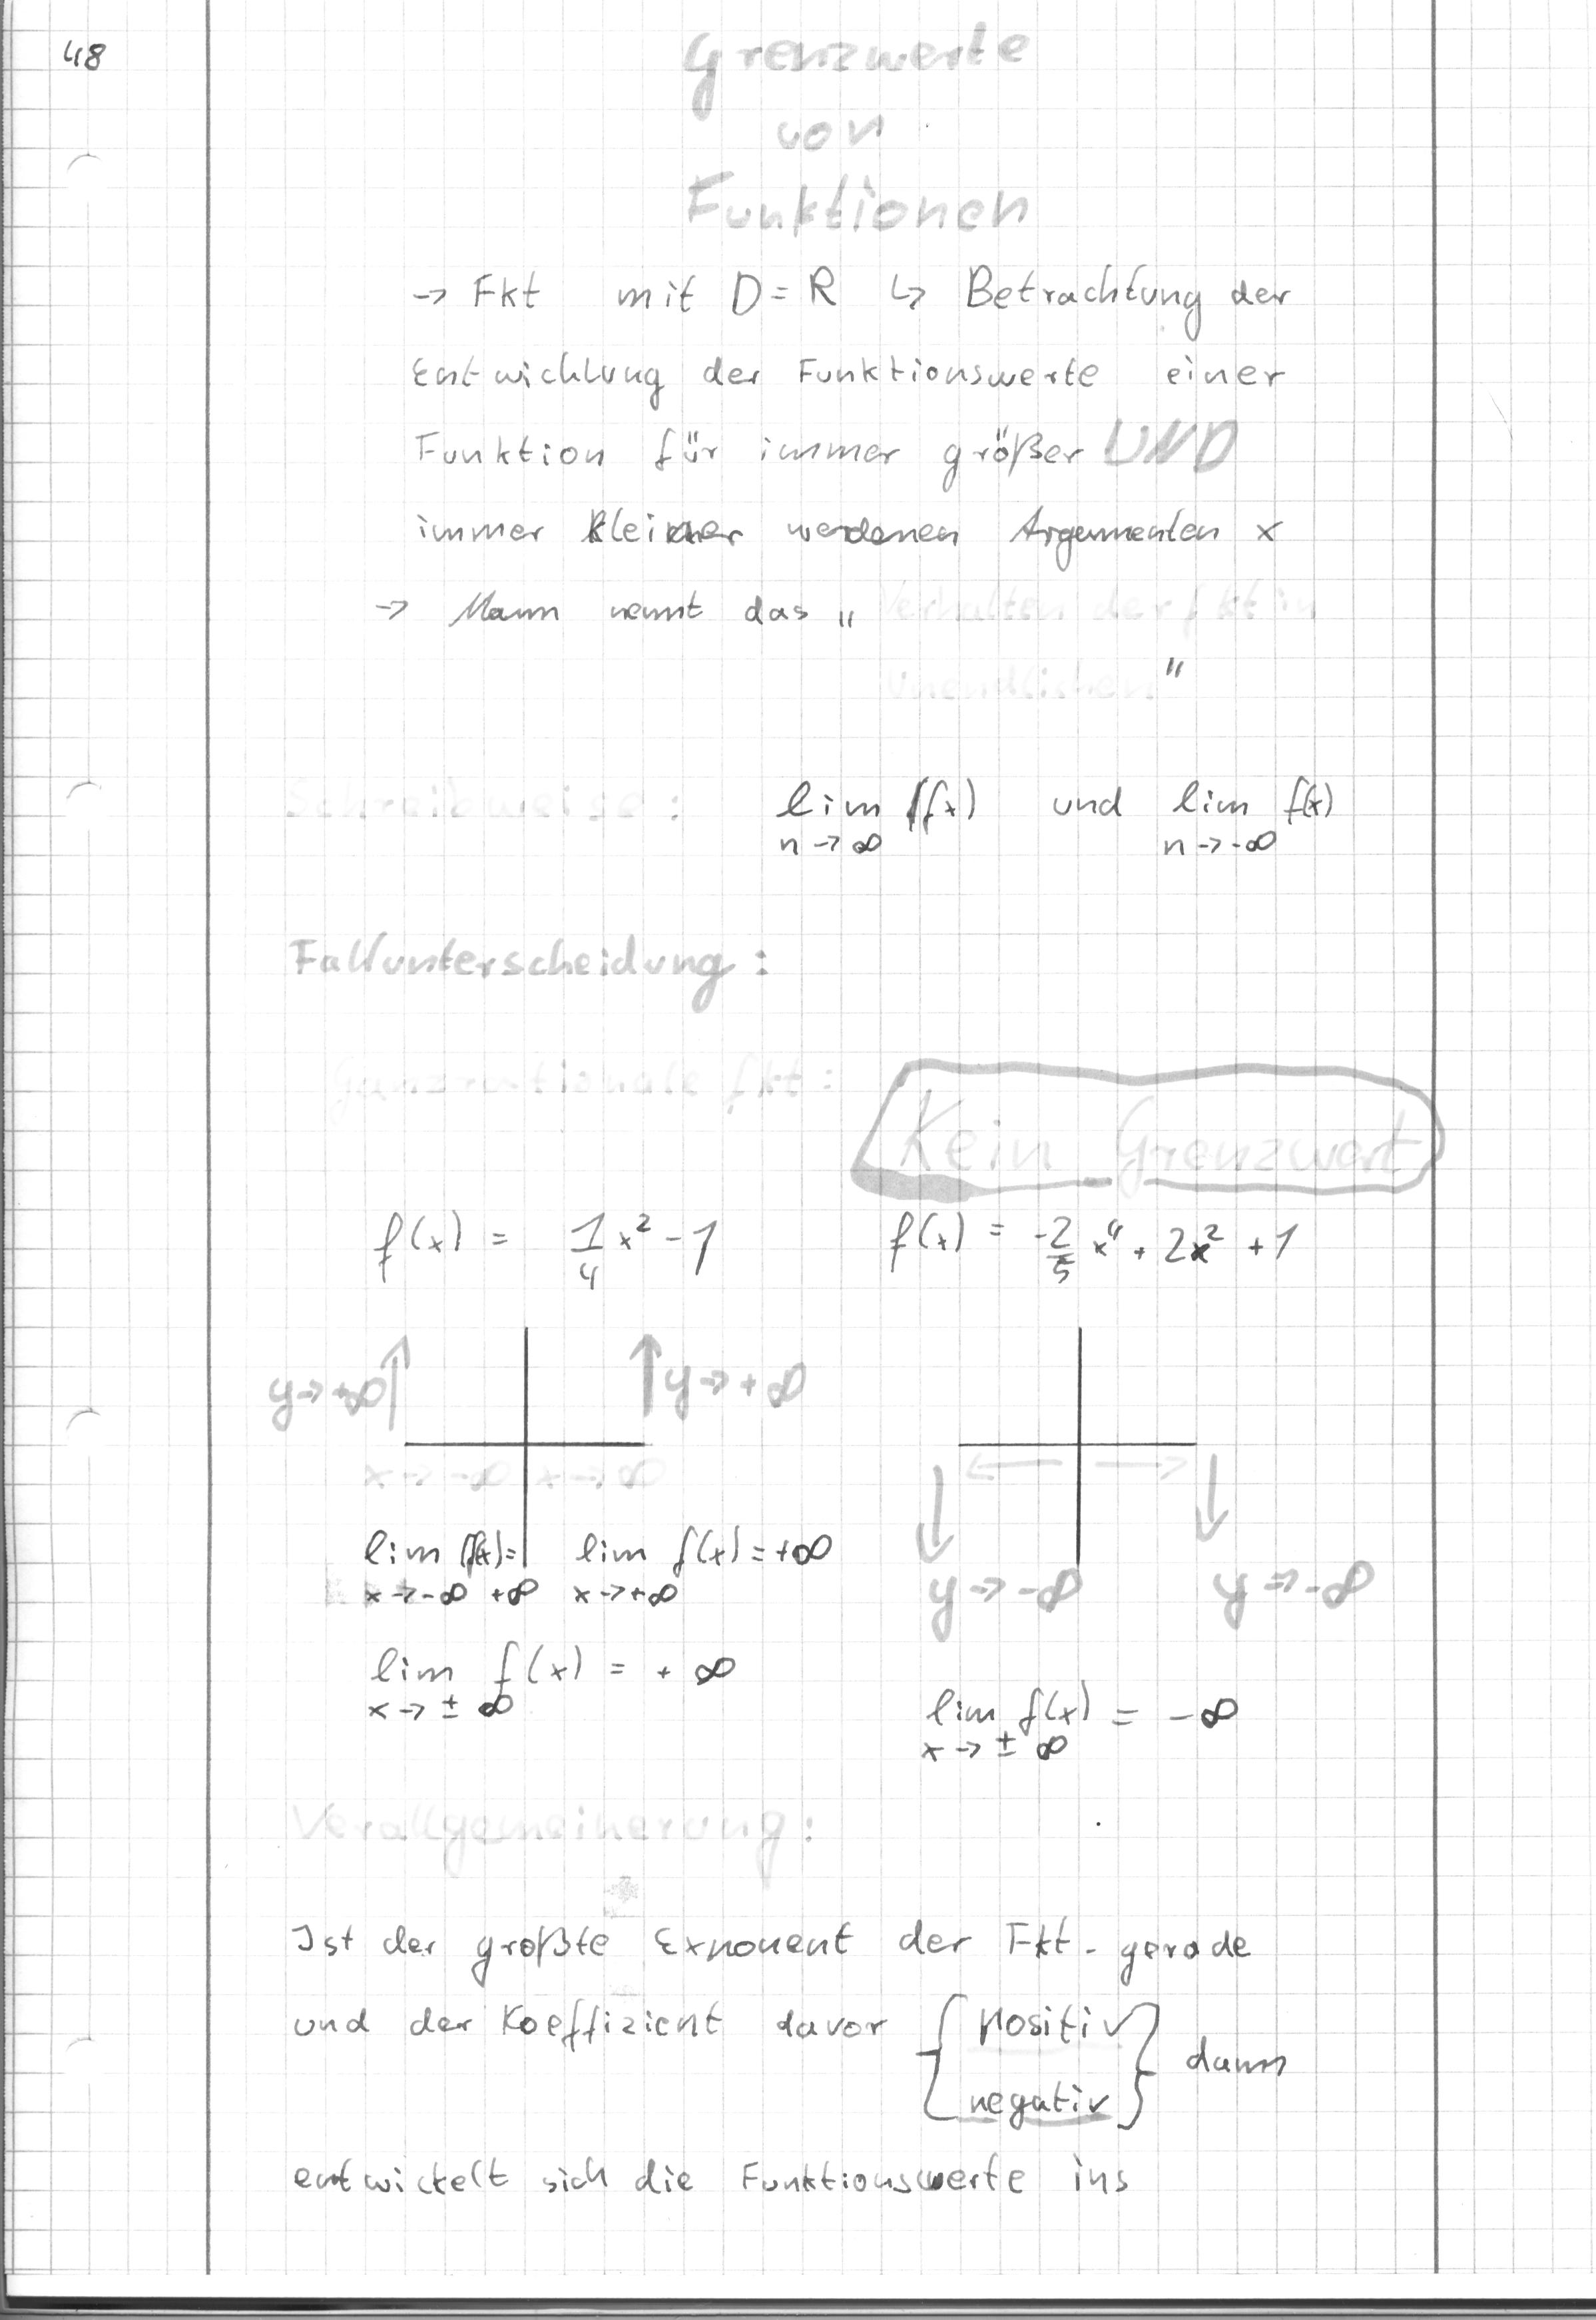word: (290, 1909, 1316, 2136), (397, 256, 1299, 417), (407, 424, 1289, 579), (286, 2137, 1150, 2209), (769, 770, 1340, 864), (357, 1520, 841, 1623), (366, 1189, 731, 1301), (365, 1632, 743, 1735), (882, 1201, 1308, 1291), (367, 570, 863, 644), (913, 1668, 1252, 1774)
